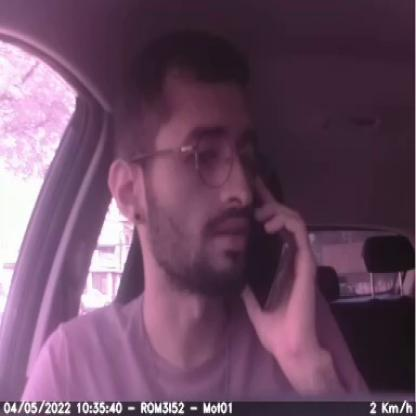phone: (243, 184, 292, 318)
